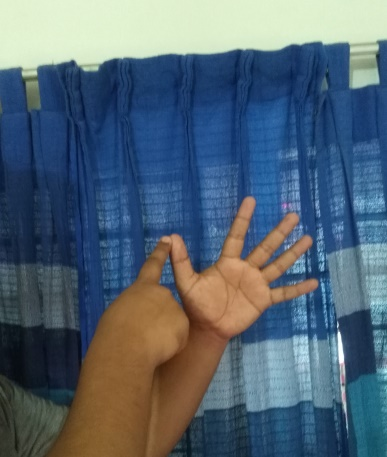a: (134, 195, 320, 328)
